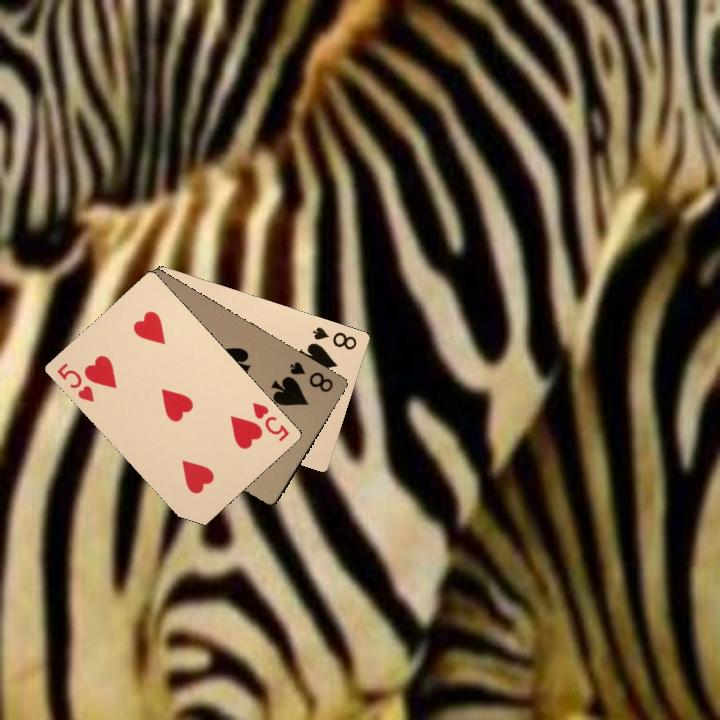5h: (248, 398, 292, 444), (53, 359, 97, 405)
8s: (286, 357, 336, 395), (309, 323, 359, 352)
